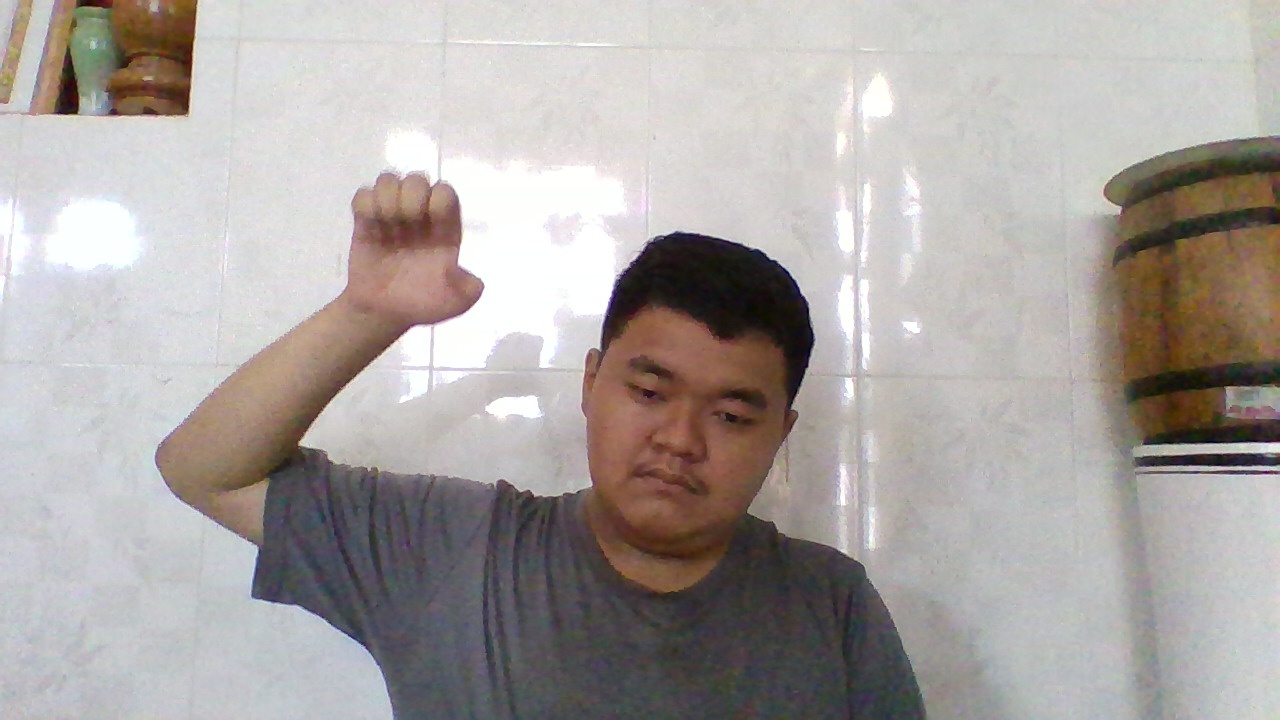E: (346, 164, 490, 336)
